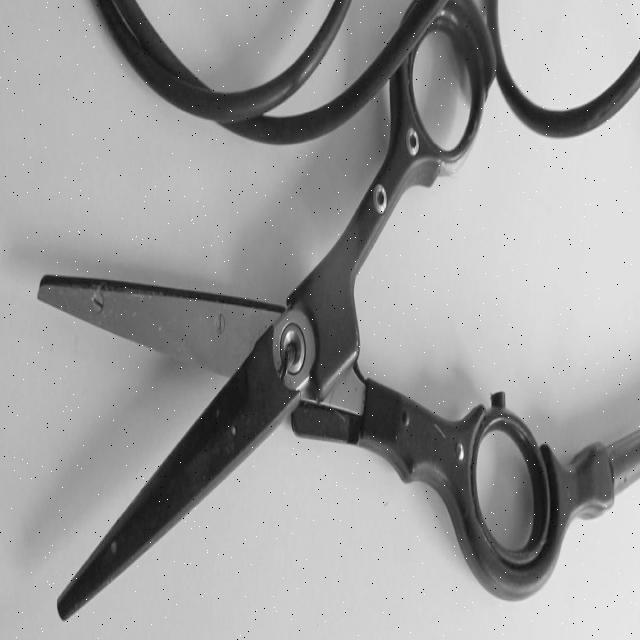scissors: (37, 3, 567, 630)
